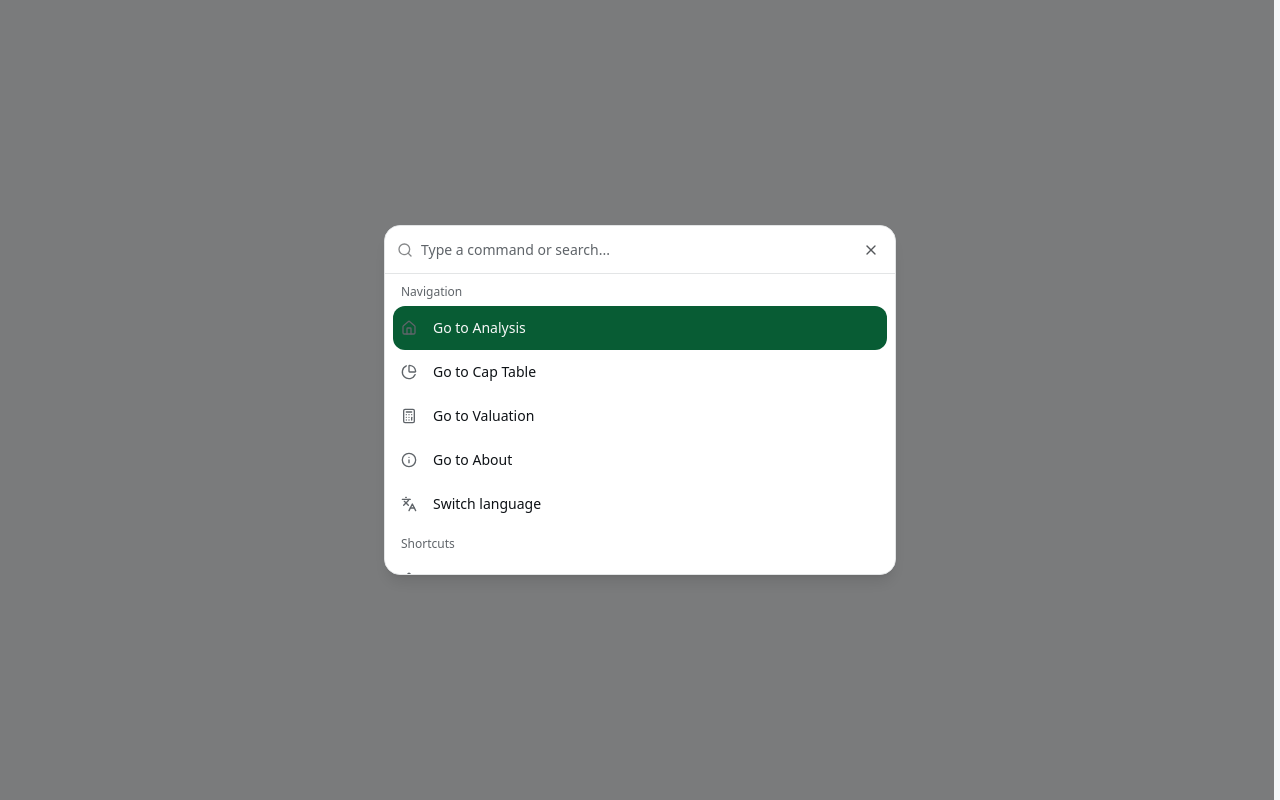
Test case: CommandPalette › search filtering › shows empty state when no matches
The width and height of the screenshot is (1280, 800).
Type "xyznonexistent" into the dropdown at (652, 250), box x1=421 y1=226 x2=883 y2=274
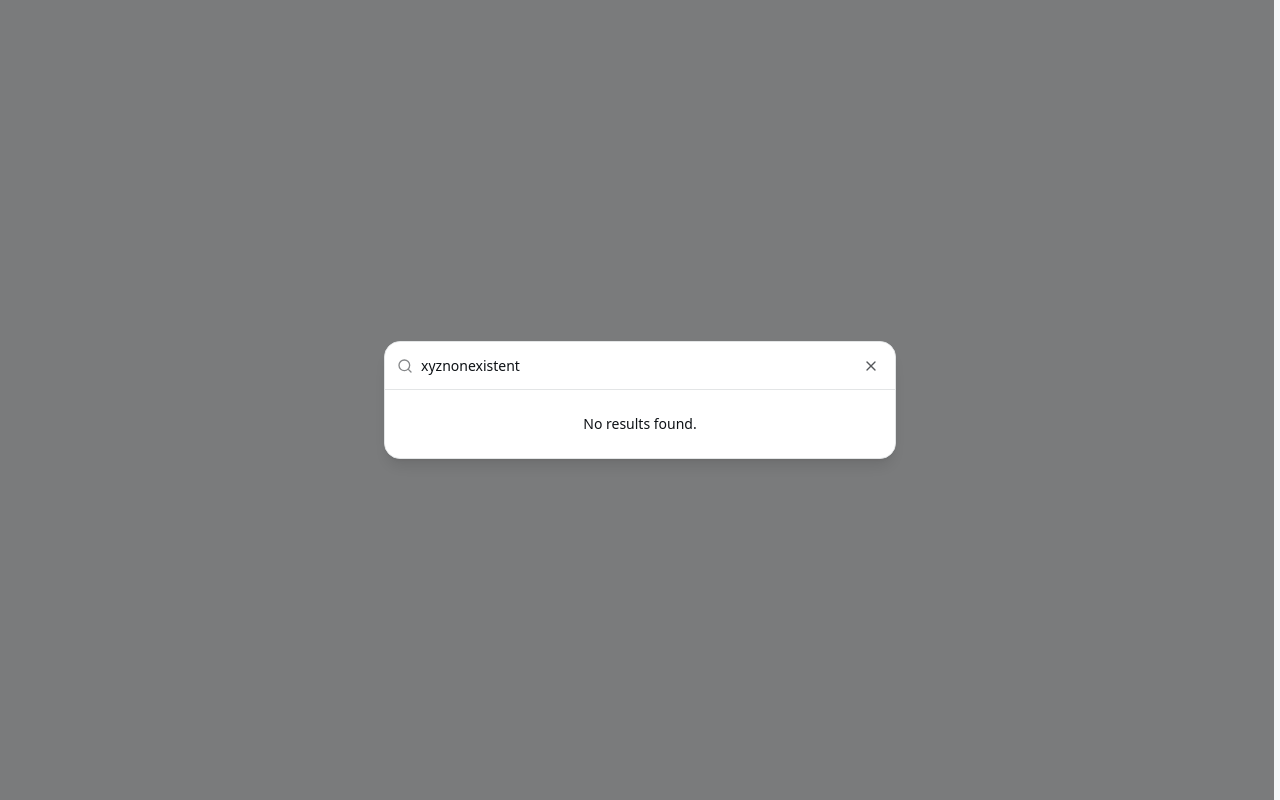
Expected: the text "No results found." is shown, x1=583 y1=414 x2=697 y2=433
